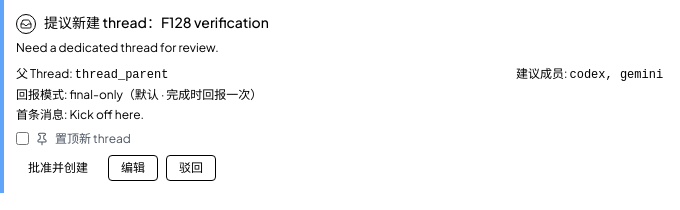
Test: ProposalCard › reject POSTs to /api/proposals/:id/reject and flips card to rejected state
Click the button "驳回": click(191, 168) top-left (166, 154), bottom-right (216, 180)
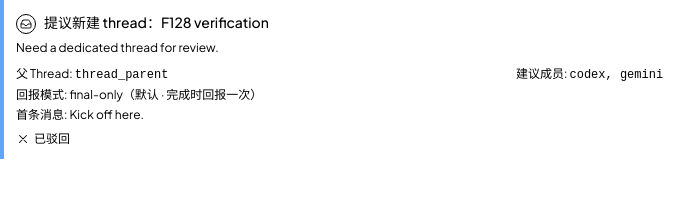
Check: the text "已驳回" is shown, box top-left (16, 130), bottom-right (70, 146)
